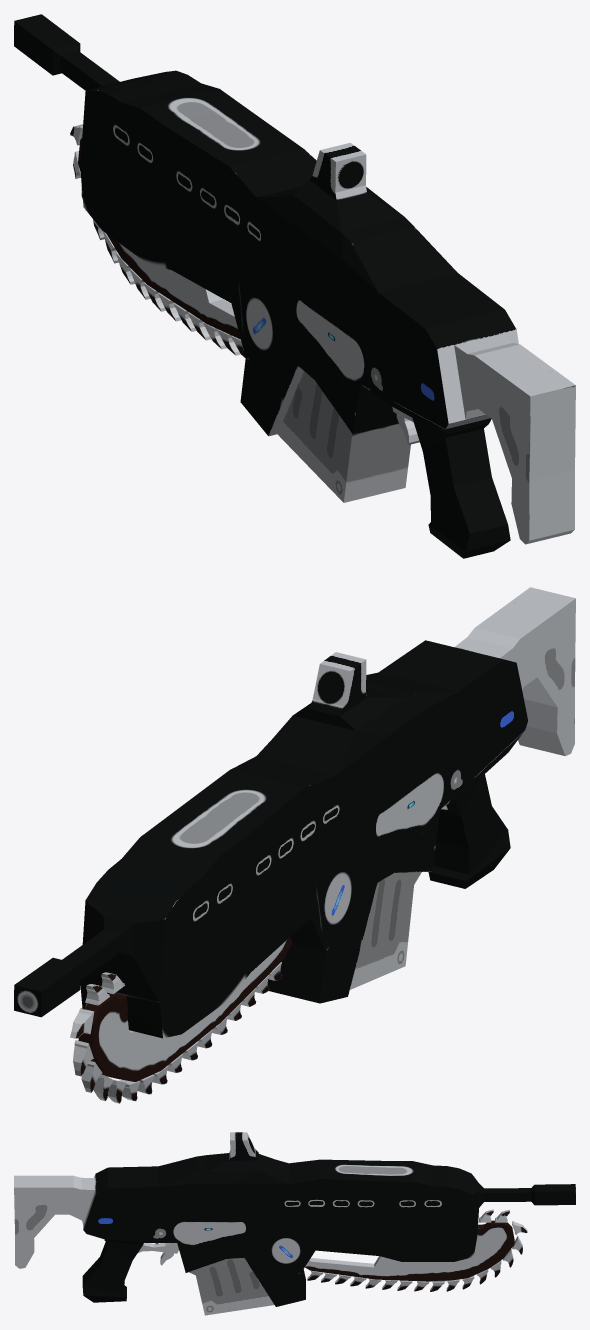
The model's file is MyLancer.fbx.
3 views of the same model, one above another, from view 1: azimuth 30°, elevation 25°; view 2: azimuth 150°, elevation 25°; view 3: azimuth 270°, elevation 25° (orthographic). The views are drawn at different scales.
Parts seen in each view (by area): view 1: Lancer; view 2: Lancer; view 3: Lancer.
Boxes of the visible parts, x1,y1,x2,y2 form: Lancer: (14, 14, 575, 558); Lancer: (14, 587, 575, 1103); Lancer: (14, 1132, 575, 1315).
Size of the model in its own units: 8.58 by 32.99 by 98.16.
1 material, 1 textured.
